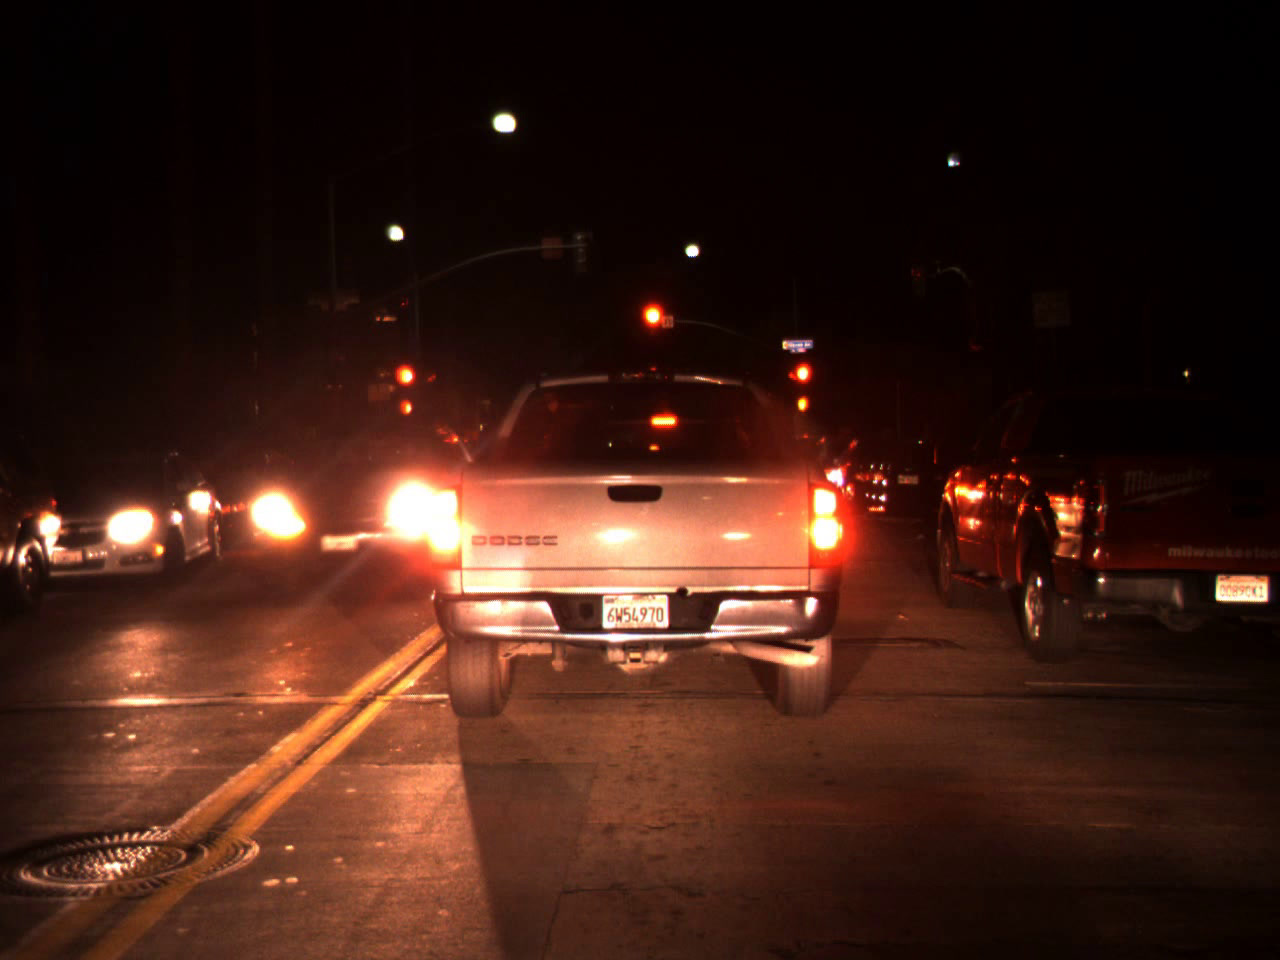stop: (637, 298, 671, 360), (391, 361, 421, 415), (784, 359, 817, 407)
